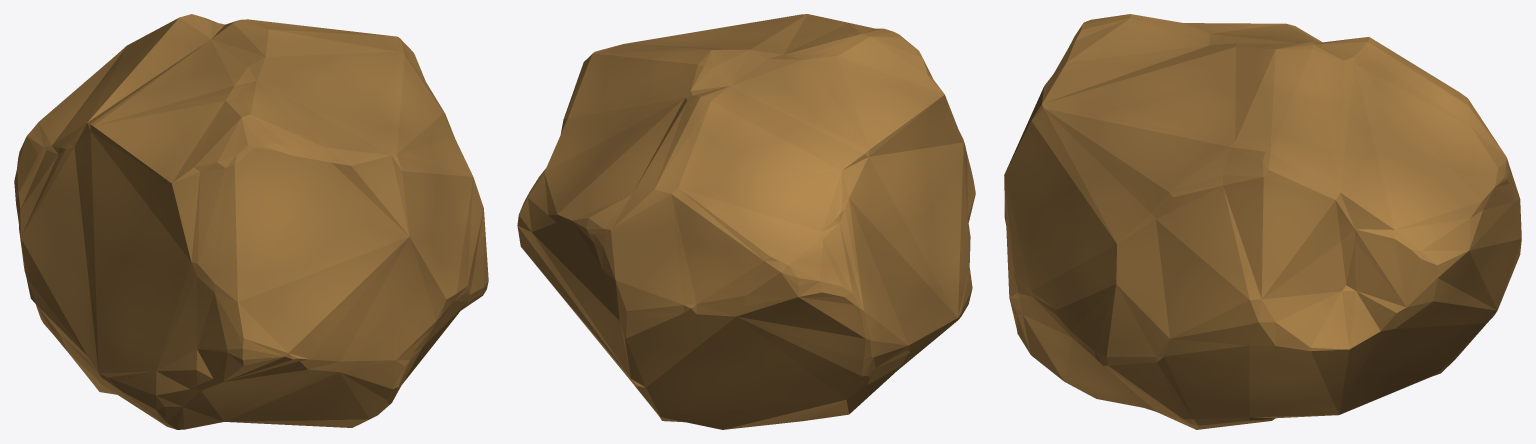
The model's file is Rock_02.fbx.
3 renders of one model, left to right at view 1: azimuth 30°, elevation 25°; view 2: azimuth 150°, elevation 25°; view 3: azimuth 270°, elevation 25°, orthographic. The views are drawn at different scales.
Parts seen in each view (by area): view 1: Rock_02; view 2: Rock_02; view 3: Rock_02.
Boxes of the visible parts, box(x1,y1,x2,y2) form: Rock_02: box(14, 14, 488, 429); Rock_02: box(517, 14, 975, 429); Rock_02: box(1004, 14, 1521, 429).
Bounding box in the file's own units: 351 × 308 × 392.
Materials: 1 (1 with a texture image).
